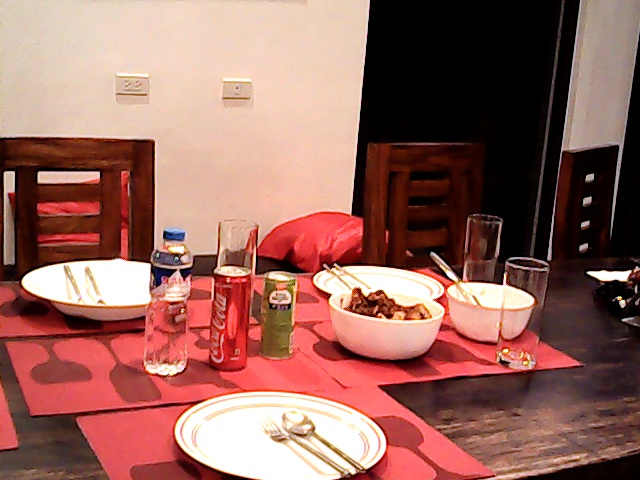Cola: (203, 266, 251, 371)
Pine Juice: (257, 268, 299, 360)
Summit Water: (143, 222, 197, 378)
